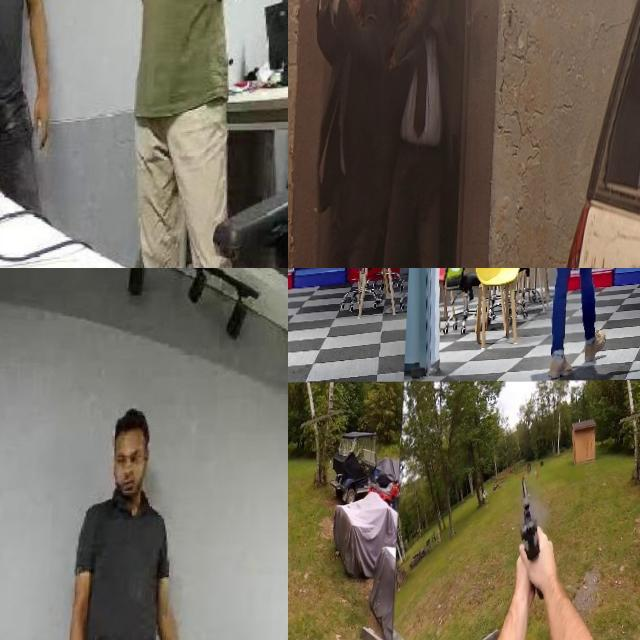-: (103, 0, 150, 20)
gun-knife-thesis - v11 Yolov5 augmented: (513, 472, 562, 606), (288, 515, 307, 619), (310, 0, 346, 43), (600, 268, 624, 285), (288, 268, 305, 289)
